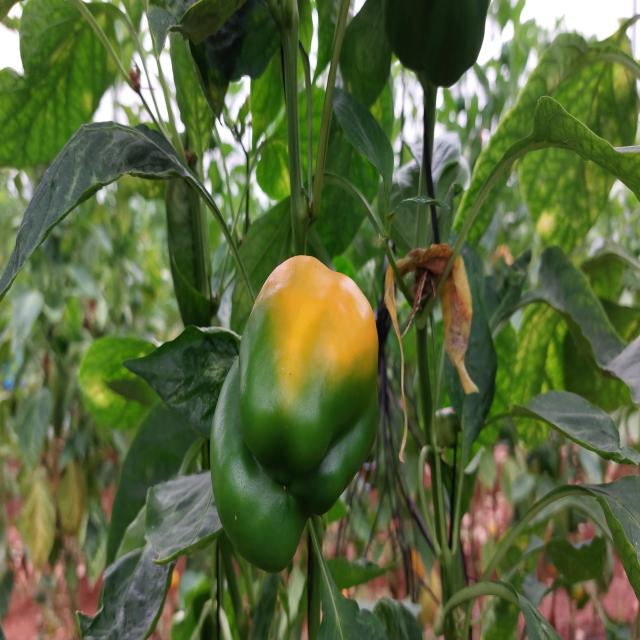GreenishYellow--Can-be-Harvested: (192, 216, 378, 553)
